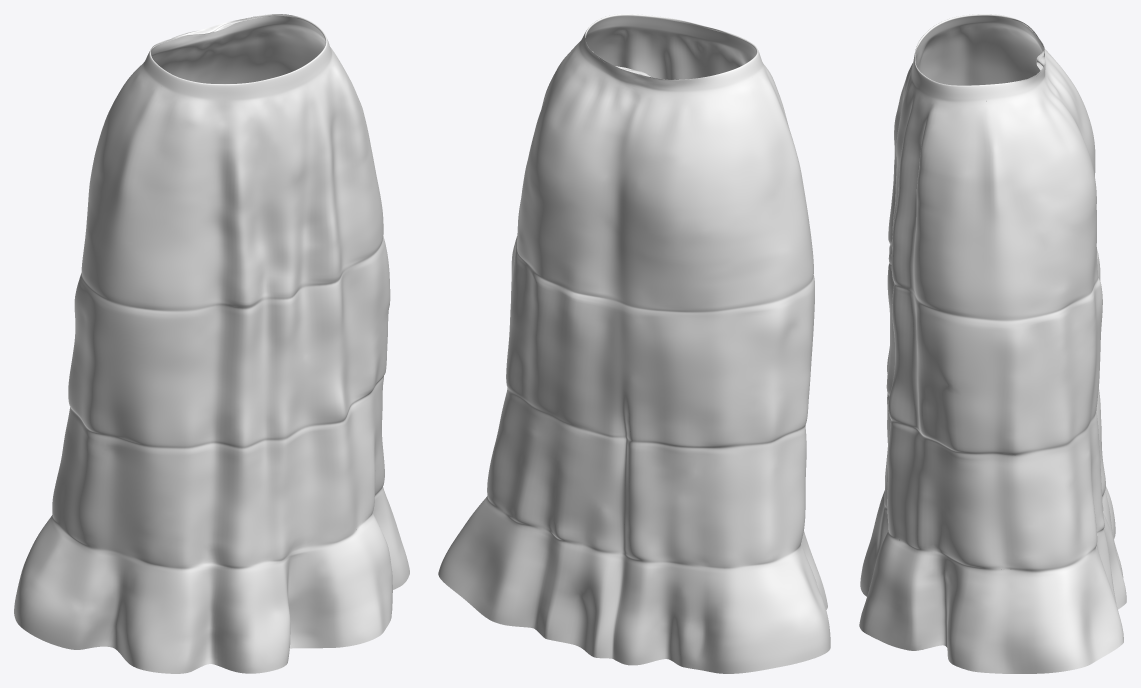
The model's file is Skirt.glb.
The picture shows the model from 3 angles, left to right: view 1: azimuth 30°, elevation 25°; view 2: azimuth 150°, elevation 25°; view 3: azimuth 270°, elevation 25°; orthographic projection. The views are drawn at different scales.
Parts seen in each view (by area): view 1: BardotSkirt_8467.002; view 2: BardotSkirt_8467.002; view 3: BardotSkirt_8467.002.
Part boxes in pixels (x1,y1,x2,y2): BardotSkirt_8467.002: (14,14,409,673); BardotSkirt_8467.002: (438,14,830,673); BardotSkirt_8467.002: (859,14,1126,673).
Bounding box in the file's own units: 11.71 × 17.12 × 7.46.
Materials: 1 (1 with a texture image).
